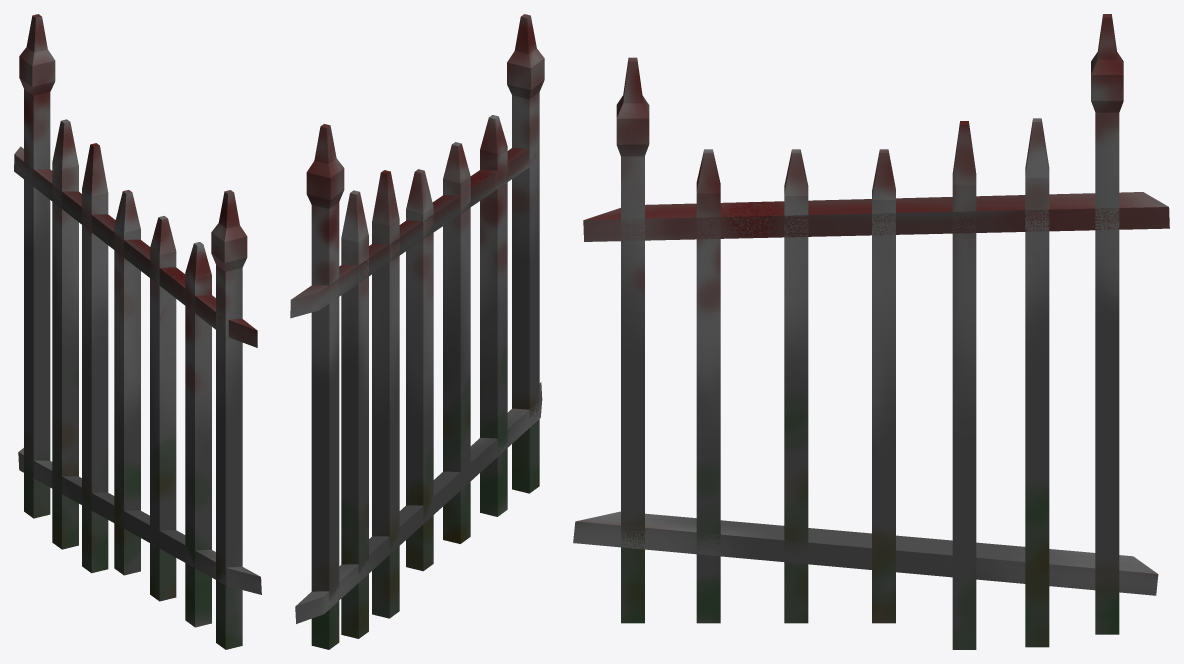
File: muur.fbx
The picture shows the model from 3 angles, left to right: view 1: azimuth 30°, elevation 25°; view 2: azimuth 150°, elevation 25°; view 3: azimuth 270°, elevation 25°; orthographic projection. The views are drawn at different scales.
Visible parts, largest first — view 1: Cube.002; view 2: Cube.002; view 3: Cube.002.
Part boxes in pixels (box(x1,y1,x2,y2)): Cube.002: box(14, 14, 261, 649); Cube.002: box(290, 14, 544, 649); Cube.002: box(573, 14, 1169, 649).
Bounding box in the file's own units: 68.48 × 1456 × 1252.
